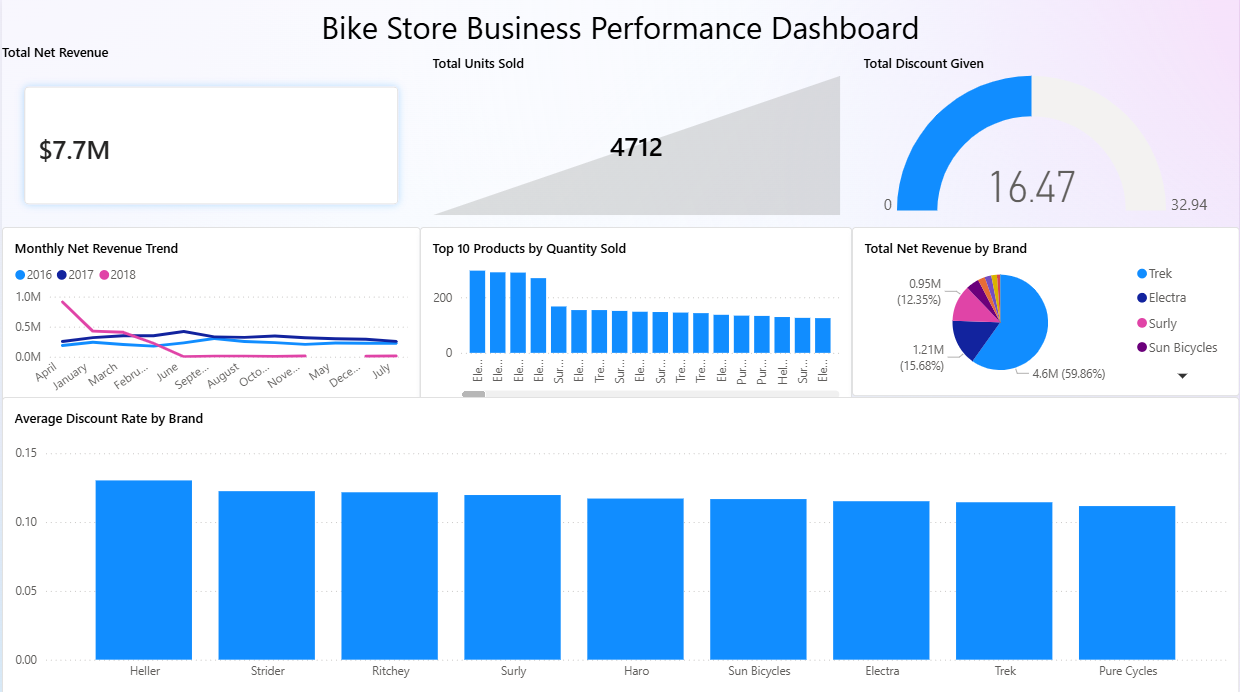

This screenshot's page, from the dashboard's own definition file:
{"tool":"powerbi","page":{"name":"Sales Performance","canvas":[1280,720],"ordinal":0},"visuals":[{"type":"kpi","title":"Total Units Sold","fields":{"Indicator":["Sum(Fact_Sales.Quantity)"],"TrendLine":["Fact_Sales.Quantity"]},"box":[433.4,44.8,445.6,190.2],"z":1000},{"type":"gauge","title":"Total Discount Given","fields":{"Y":["Sum(Fact_Sales.DiscountAmount)"]},"box":[878.9,44.8,400.8,190.2],"z":2000},{"type":"lineChart","title":"Monthly Net Revenue Trend","fields":{"Category":["Dim_Date.MonthName"],"Y":["Sum(Fact_Sales.SalesAmount)"],"Series":["Dim_Date.Year"]},"box":[0,235,433.4,190.2],"z":3000},{"type":"clusteredColumnChart","title":"Top 10 Products by Quantity Sold","fields":{"Y":["Sum(Fact_Sales.Quantity)"],"Category":["Dim_Product.Product_Name"]},"box":[432,235,446.9,190.2],"z":4000},{"type":"pieChart","title":"Total Net Revenue by Brand","fields":{"Category":["Dim_Product.Brand_Name"],"Y":["Fact_Sales.Total_Net_Revenue1"]},"box":[878.9,235,400.8,175.2],"z":5000},{"type":"clusteredColumnChart","title":"Average Discount Rate by Brand","fields":{"Category":["Dim_Product.Brand_Name"],"Y":["Fact_Sales.Discount Rate %"]},"box":[0,410.3,1279.7,309.7],"z":6000},{"type":"cardVisual","title":"Total Net Revenue","fields":{"Data":["Sum(Fact_Sales.Net_Revenue_Calc)"]},"box":[0,44.8,433.4,190.2],"z":6002},{"type":"textbox","box":[0,0,1279.7,56],"z":6003}]}

Visuals, with their boxes in screenshot pixels (x1, y1, x2, y2), scaled from the page's 1280x720 canvas onto the 1240x692 screenshot:
"Total Units Sold" kpi: region(420, 43, 852, 226)
"Total Discount Given" gauge: region(851, 43, 1239, 226)
"Monthly Net Revenue Trend" lineChart: region(0, 226, 420, 409)
"Top 10 Products by Quantity Sold" clusteredColumnChart: region(418, 226, 851, 409)
"Total Net Revenue by Brand" pieChart: region(851, 226, 1239, 394)
"Average Discount Rate by Brand" clusteredColumnChart: region(0, 394, 1239, 691)
"Total Net Revenue" cardVisual: region(0, 43, 420, 226)
textbox: region(0, 0, 1239, 54)
